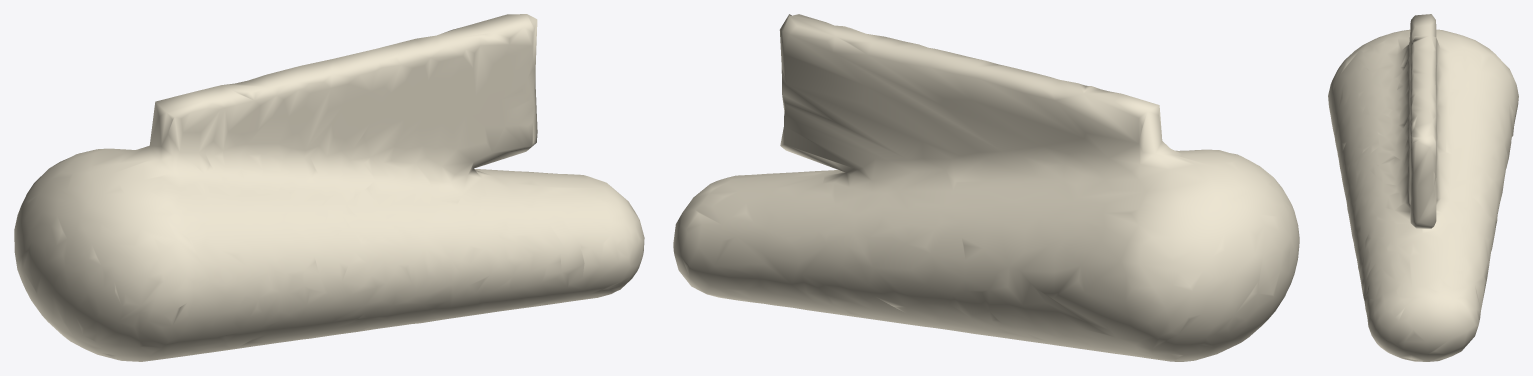
File: sacrum.glb
The picture shows the model from 3 angles, left to right: view 1: azimuth 30°, elevation 25°; view 2: azimuth 150°, elevation 25°; view 3: azimuth 270°, elevation 25°; orthographic projection. The views are drawn at different scales.
Parts seen in each view (by area): view 1: geometry_0; view 2: geometry_0; view 3: geometry_0.
Part boxes in pixels (<box>): geometry_0: <box>14,14,644,361</box>; geometry_0: <box>673,14,1299,361</box>; geometry_0: <box>1328,14,1518,361</box>.
Size of the model in its own units: 0.4058 by 0.1883 by 0.1608.
